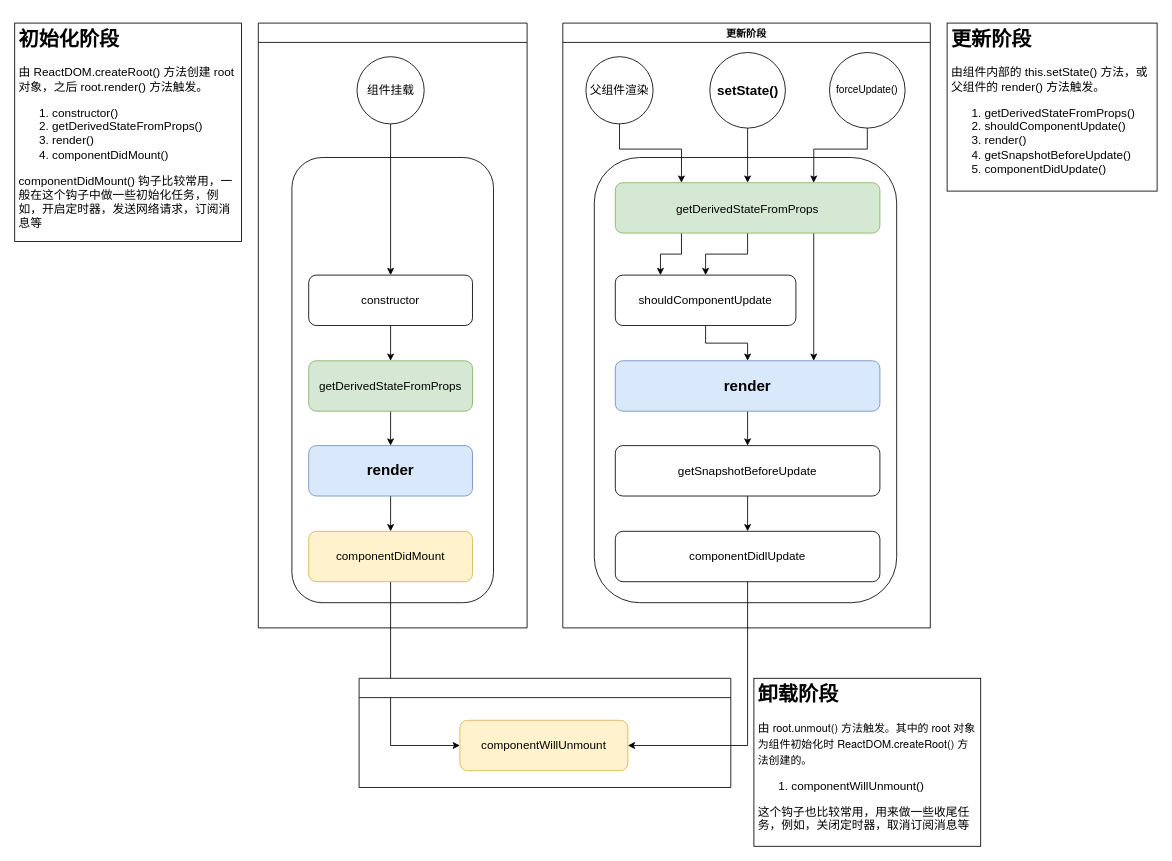
Some shapes in this 1172 by 861 pixel diagram are drawn without their labels. The shapes that lost their labels are listed below. From the top down, each one's centre as x and y in pixels, then its label:
[392,325]: 初始化阶段
[544,732]: 卸载阶段
